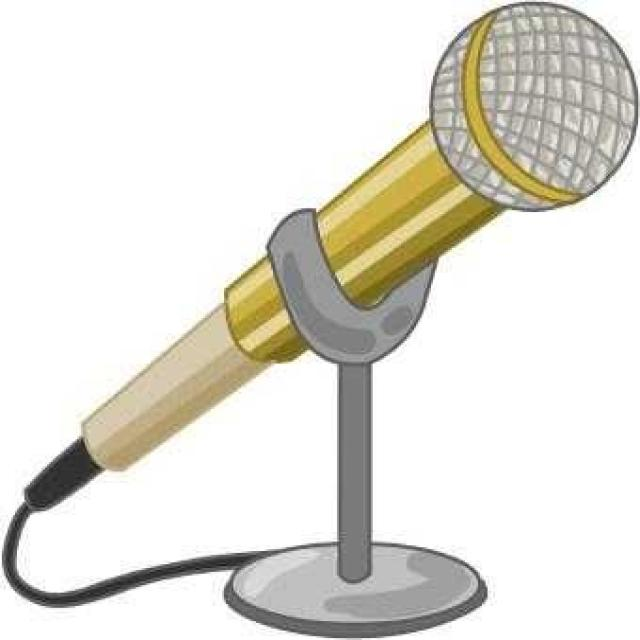microphone: (43, 6, 626, 495)
